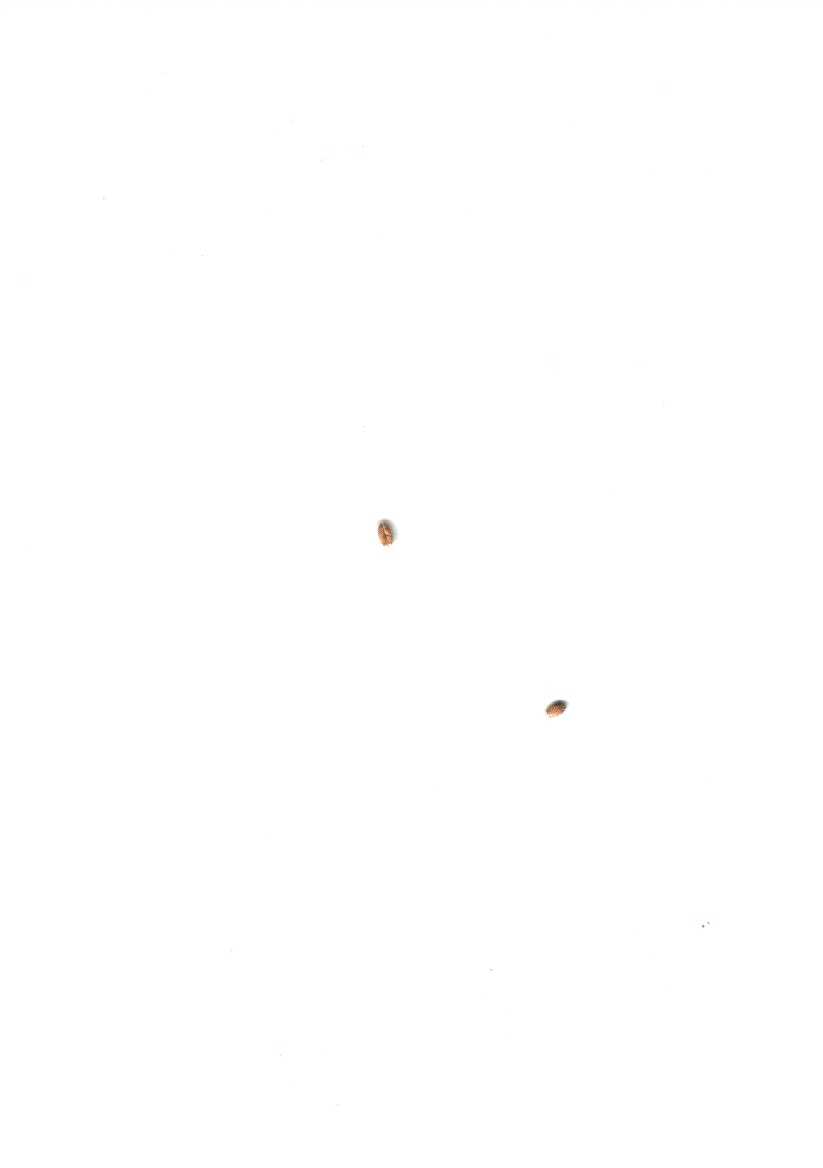grains: (364, 511, 403, 556), (537, 693, 575, 728)
